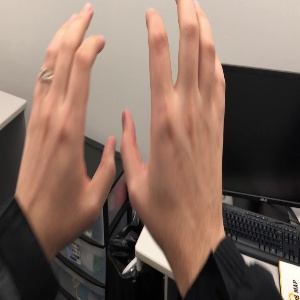hand: (122, 1, 224, 239), (18, 2, 116, 232)
